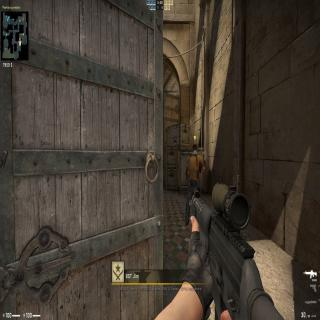T-Head: (192, 143, 198, 153)
